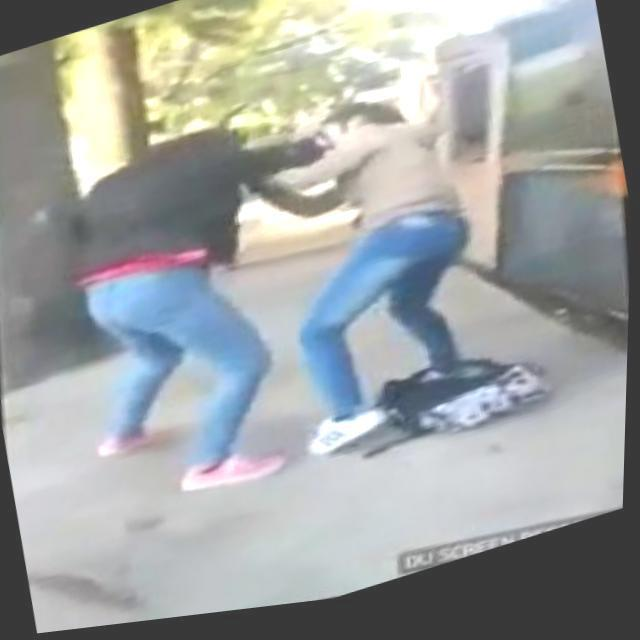fight: (31, 38, 528, 534)
